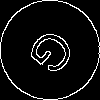G: (25, 25, 85, 85)
